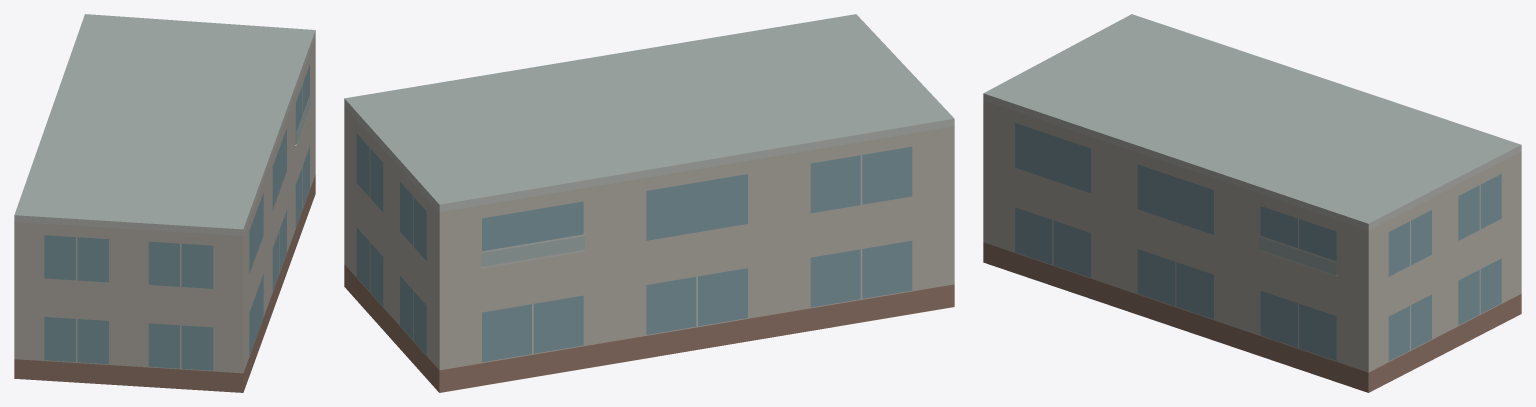
File: survey-upis-32994912.glb
3 views of the same model, side by side, from view 1: azimuth 30°, elevation 25°; view 2: azimuth 150°, elevation 25°; view 3: azimuth 270°, elevation 25° (orthographic). The views are drawn at different scales.
Parts seen in each view (by area): view 1: survey-upis-32994912.tmp; view 2: survey-upis-32994912.tmp; view 3: survey-upis-32994912.tmp.
Part boxes in pixels (bbox=[...]): survey-upis-32994912.tmp: bbox=[14, 14, 315, 392]; survey-upis-32994912.tmp: bbox=[344, 14, 954, 392]; survey-upis-32994912.tmp: bbox=[983, 14, 1521, 392].
Size of the model in its own units: 16.24 by 6.1 by 17.6.
